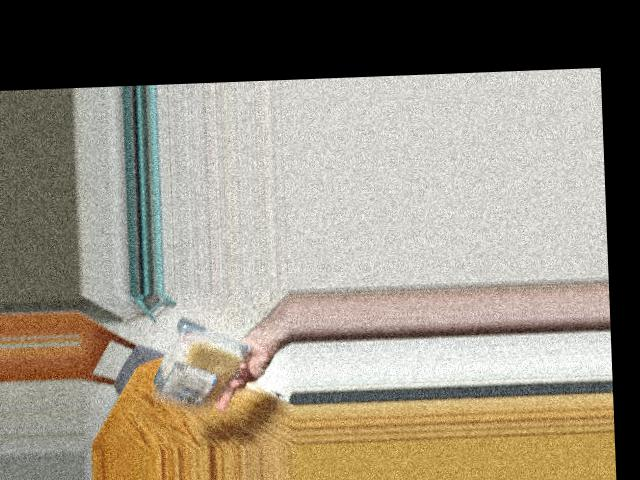cheese: (143, 321, 249, 405)
